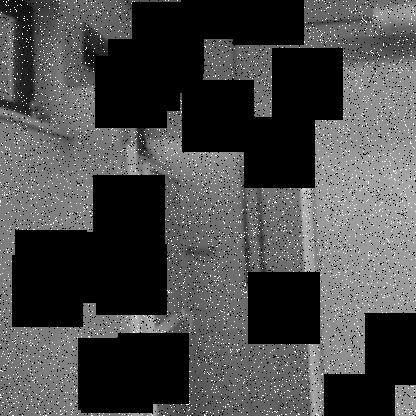Porte: (124, 132, 324, 415)
